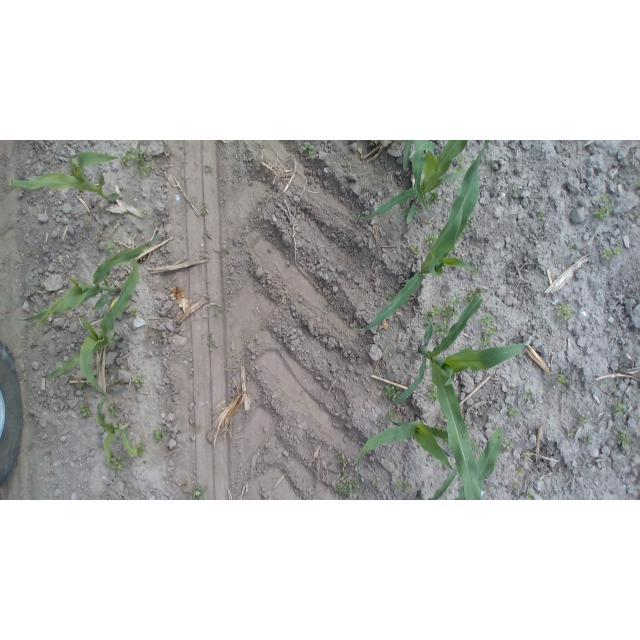Maize: (396, 288, 528, 499), (359, 143, 492, 337), (42, 257, 142, 398), (34, 233, 166, 328), (351, 142, 477, 226), (352, 415, 490, 480), (426, 428, 506, 500), (33, 150, 121, 206), (96, 389, 141, 463)
Weeds: (421, 297, 459, 339), (121, 148, 158, 177), (479, 312, 498, 350), (592, 194, 614, 221), (335, 477, 367, 495), (462, 285, 487, 303), (183, 483, 209, 500), (615, 428, 634, 451), (333, 450, 351, 474), (380, 382, 399, 403), (108, 452, 128, 471), (428, 383, 445, 405), (378, 410, 398, 427), (150, 427, 168, 445), (395, 479, 416, 494), (599, 245, 621, 259), (77, 403, 94, 421), (611, 400, 627, 418), (427, 189, 442, 208), (452, 153, 467, 172), (106, 404, 124, 419), (424, 230, 440, 246), (555, 304, 571, 320), (134, 442, 149, 458), (122, 305, 139, 319), (103, 244, 121, 257), (129, 374, 145, 388), (506, 403, 522, 417), (553, 373, 567, 389), (206, 334, 218, 352), (201, 163, 215, 177), (199, 200, 211, 216), (304, 143, 320, 155), (510, 185, 522, 201), (512, 464, 526, 477), (409, 246, 423, 259), (139, 208, 154, 220), (578, 414, 590, 429), (468, 264, 482, 276), (502, 438, 514, 452), (372, 482, 385, 494), (323, 295, 334, 309), (214, 307, 225, 320), (585, 434, 596, 446), (522, 391, 535, 400), (522, 450, 531, 462), (537, 212, 547, 222), (511, 482, 522, 491), (523, 492, 535, 500), (568, 243, 577, 253), (566, 430, 576, 439), (600, 379, 608, 390), (316, 282, 325, 291), (633, 178, 640, 188), (635, 213, 640, 224), (347, 159, 352, 169)
